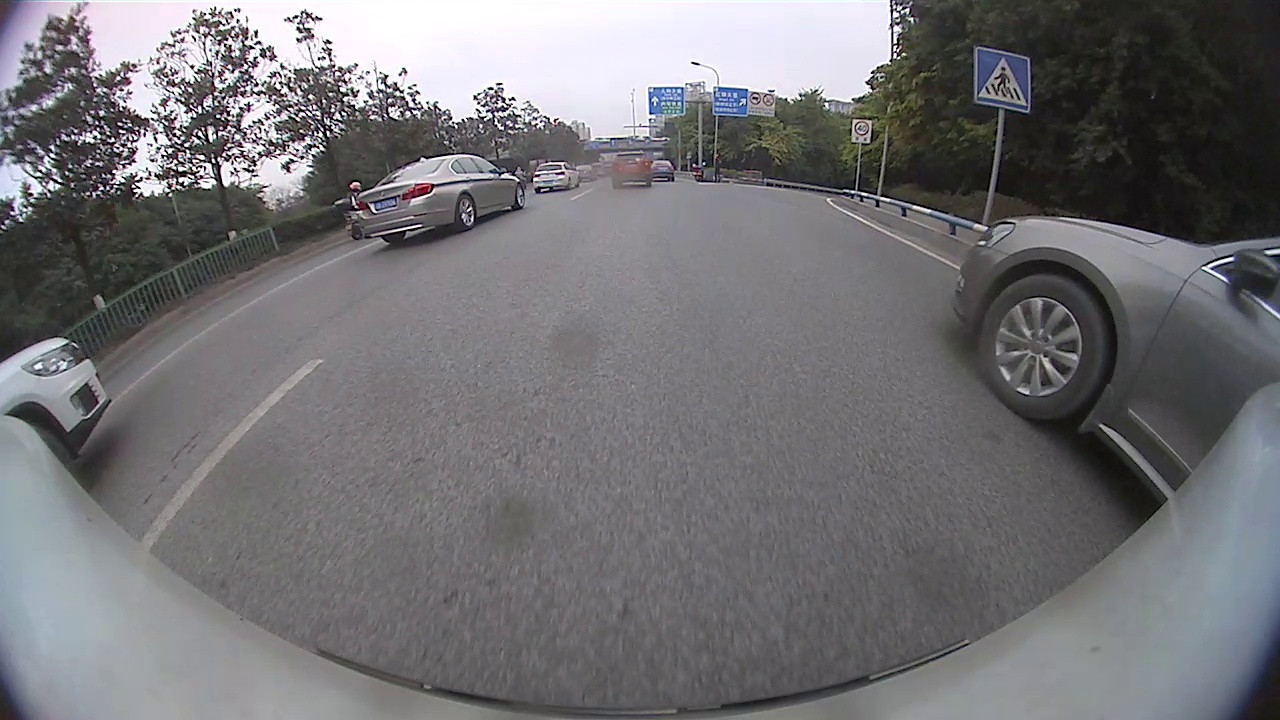car: (950, 214, 1279, 511), (358, 152, 527, 246), (1, 333, 114, 466), (608, 147, 655, 189), (531, 160, 582, 194), (652, 160, 676, 184)
front: (974, 274, 1116, 425), (514, 183, 528, 211)
person: (713, 152, 722, 183)
rear: (454, 194, 477, 229)
rider: (332, 181, 358, 238), (691, 159, 708, 183)
